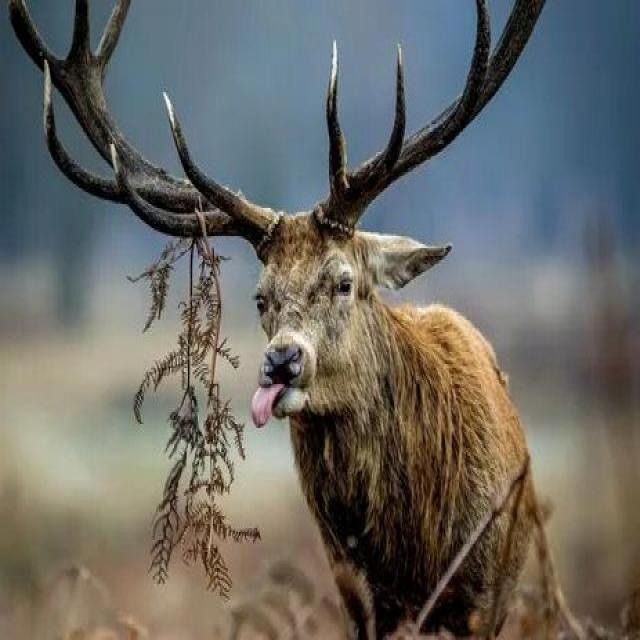deer: (170, 95, 546, 585)
